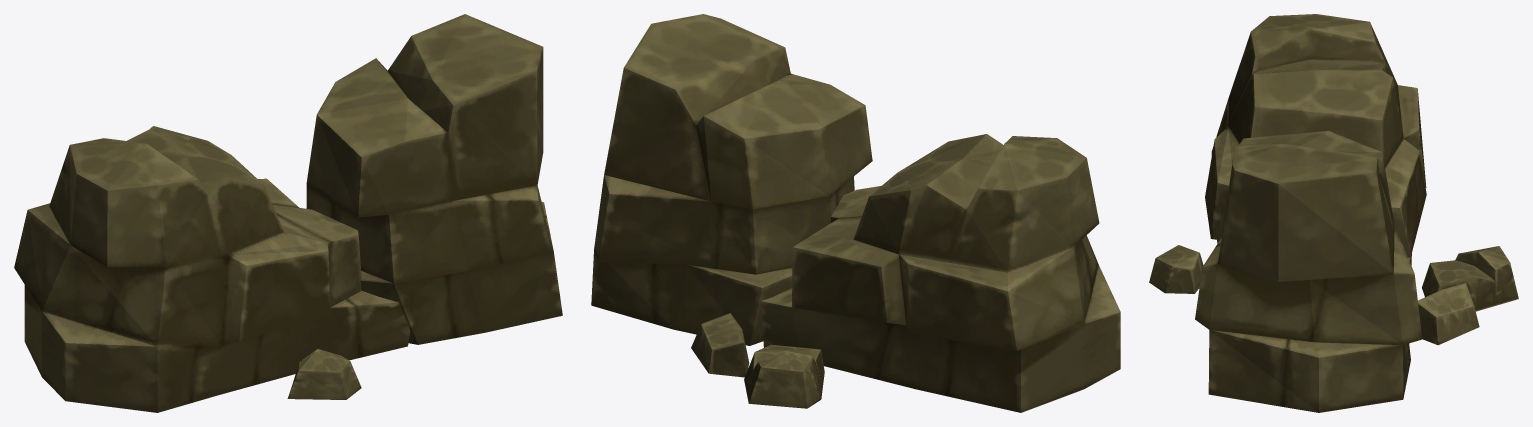
The model's file is rockwall_straight_07.fbx.
3 renders of one model, left to right at view 1: azimuth 30°, elevation 25°; view 2: azimuth 150°, elevation 25°; view 3: azimuth 270°, elevation 25°, orthographic. The views are drawn at different scales.
Parts seen in each view (by area): view 1: obj0.160; view 2: obj0.160; view 3: obj0.160.
Boxes of the visible parts, x1=… form: obj0.160: x1=14, y1=14, x2=562, y2=412; obj0.160: x1=591, y1=14, x2=1120, y2=412; obj0.160: x1=1149, y1=14, x2=1518, y2=412.
Bounding box in the file's own units: 5.26 × 2.37 × 3.64.
